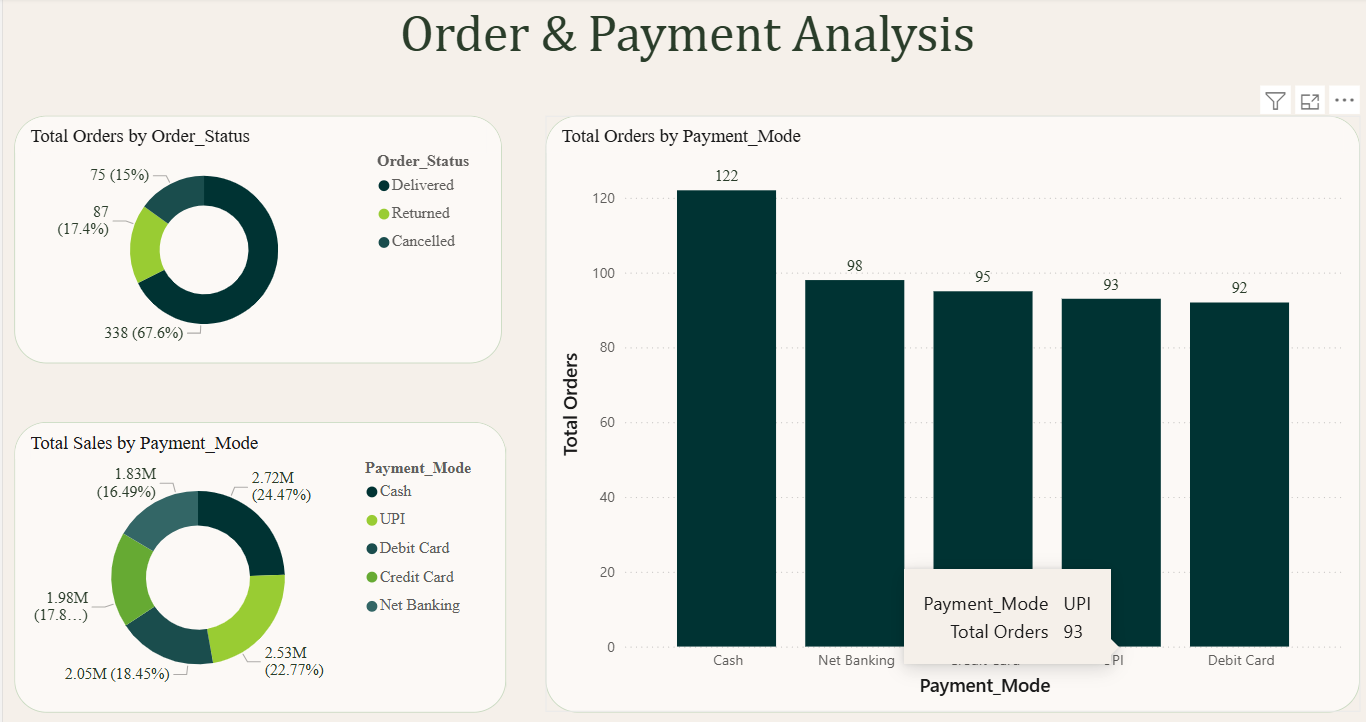

Layout of this report page (visuals, bound fields, positions):
{"tool":"powerbi","page":{"name":"Order & Payment Analysis","canvas":[1280,720],"ordinal":3},"visuals":[{"type":"textbox","box":[10,0,1252.5,85],"z":0},{"type":"donutChart","fields":{"Y":["Sales_Data.Total Orders"],"Category":["Sales_Data.Order_Status"]},"box":[10,110,453.8,230],"z":1000},{"type":"donutChart","fields":{"Category":["Sales_Data.Payment_Mode"],"Y":["Sales_Data.Total Sales"]},"box":[10,395,457.5,270],"z":2000},{"type":"clusteredColumnChart","fields":{"Category":["Sales_Data.Payment_Mode"],"Y":["Sales_Data.Total Orders"]},"box":[505,110,757.5,555],"z":3000}]}

Visuals, with their boxes on the page's 1280x720 design canvas (x1, y1, x2, y2). These are canvas units, not pixel positions in the 1366x722 screenshot, which may show the page scaled, cropped or inside an application window:
textbox: (10, 0, 1262, 85)
donutChart - Sales_Data.Total Orders x Sales_Data.Order_Status: (10, 110, 464, 340)
donutChart - Sales_Data.Payment_Mode x Sales_Data.Total Sales: (10, 395, 468, 665)
clusteredColumnChart - Sales_Data.Payment_Mode x Sales_Data.Total Orders: (505, 110, 1262, 665)
